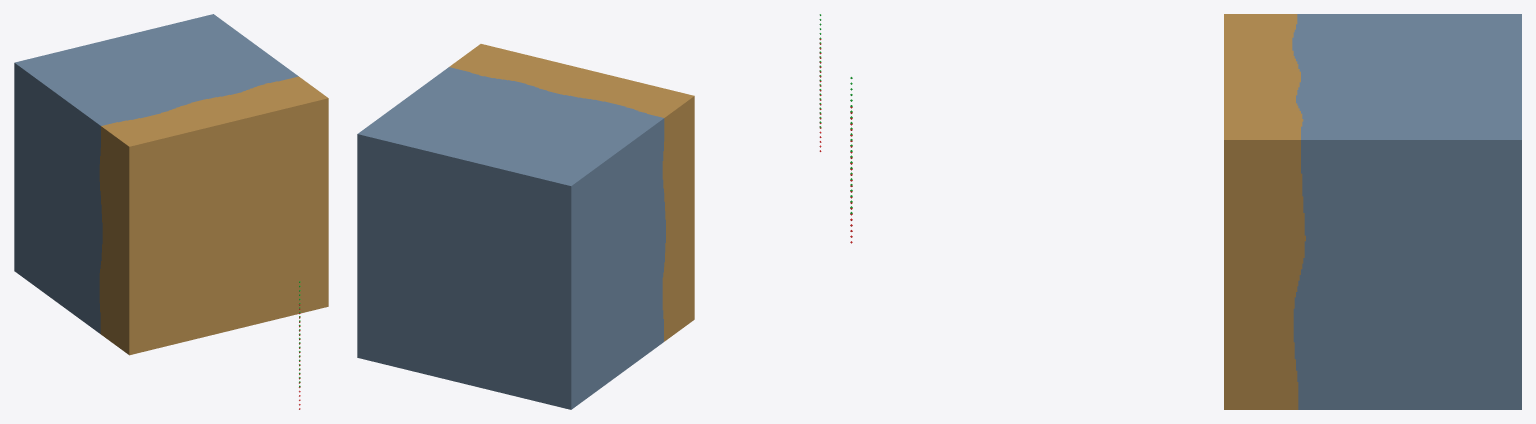
3 views of the same model, side by side, from view 1: azimuth 30°, elevation 25°; view 2: azimuth 150°, elevation 25°; view 3: azimuth 270°, elevation 25° (orthographic). The views are drawn at different scales.
Visible parts, largest first — view 1: cover, rock; view 2: rock, cover; view 3: rock, cover.
Part boxes in pixels (box(x1,y1,x2,y2)): cover: box(99, 76, 328, 355); rock: box(14, 14, 298, 333); rock: box(357, 67, 665, 409); cover: box(449, 44, 694, 341); rock: box(1292, 14, 1521, 409); cover: box(1224, 14, 1305, 409).
Size of the model in its own units: 12 by 12 by 27.06.
